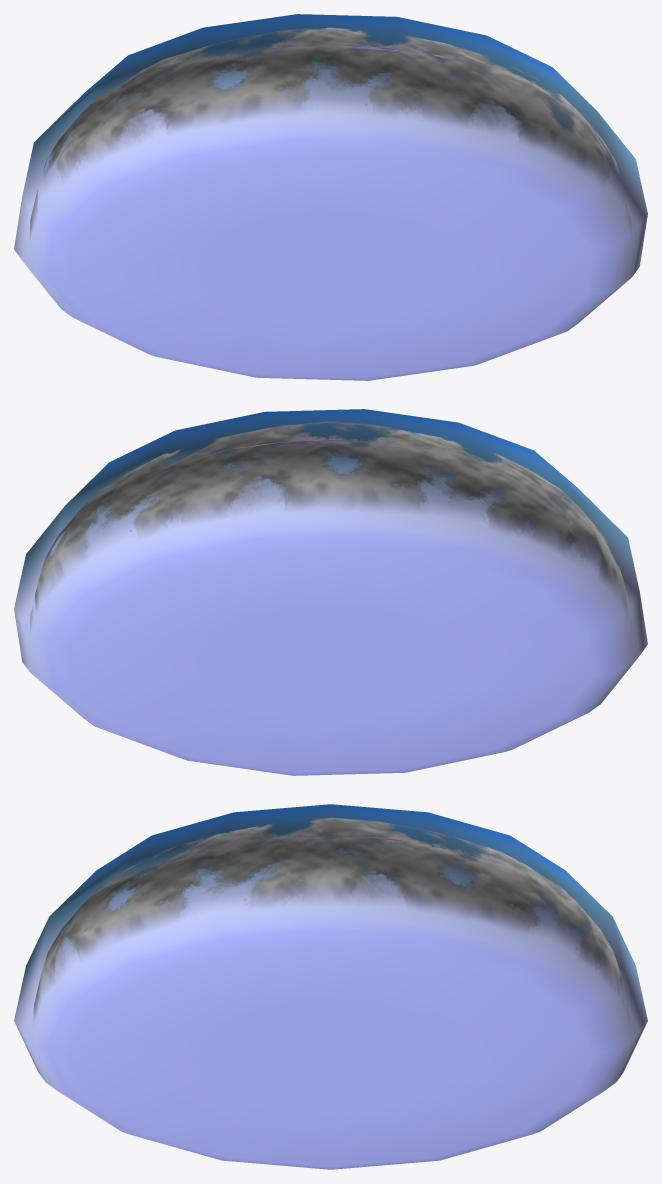
Rendered from DJSky.gltf.
3 views of the same model, one above another, from view 1: azimuth 30°, elevation 25°; view 2: azimuth 150°, elevation 25°; view 3: azimuth 270°, elevation 25° (orthographic).
Visible parts, largest first — view 1: sky, clouds side; view 2: sky, clouds side; view 3: sky, clouds side.
Boxes of the visible parts, <box> form: sky: <box>14,14,647,380</box>; clouds side: <box>30,27,631,236</box>; sky: <box>14,409,647,775</box>; clouds side: <box>30,421,631,629</box>; sky: <box>14,804,647,1169</box>; clouds side: <box>33,817,629,1025</box>.
Bounding box in the file's own units: 5000 × 1550 × 5000.
Materials: 3 (2 with a texture image).
